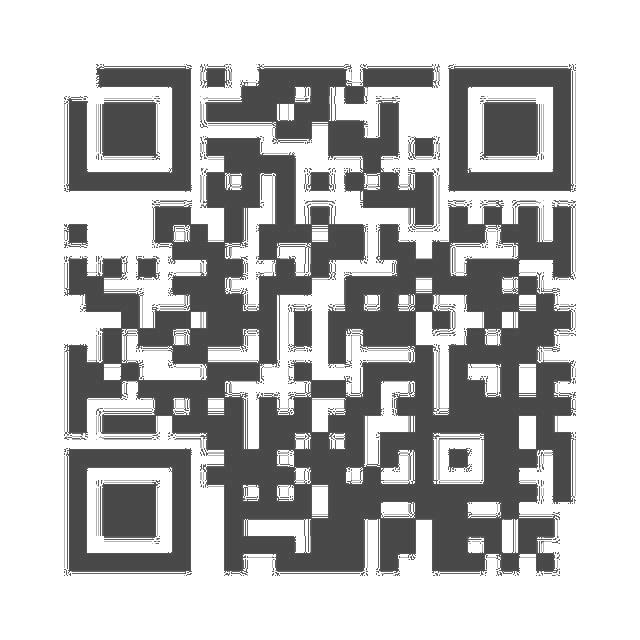qr_code: (44, 50, 595, 590)
